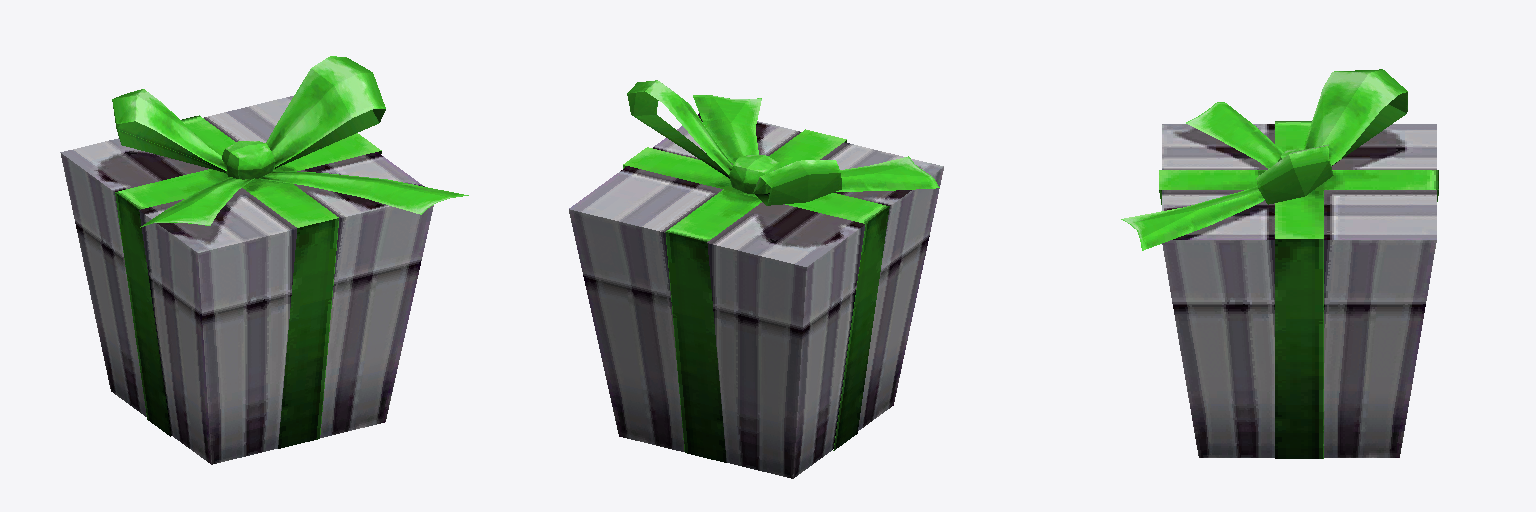
3 views of the same model, side by side, from view 1: azimuth 30°, elevation 25°; view 2: azimuth 150°, elevation 25°; view 3: azimuth 270°, elevation 25° (orthographic).
Visible parts, largest first — view 1: bow_present; view 2: bow_present; view 3: bow_present.
Part boxes in pixels (left/top/right/bottom): bow_present: left=60, top=56, right=468, bottom=464; bow_present: left=569, top=80, right=943, bottom=478; bow_present: left=1121, top=69, right=1438, bottom=458.
Size of the model in its own units: 0.6076 by 0.6349 by 0.5791.
2 materials, 1 textured.